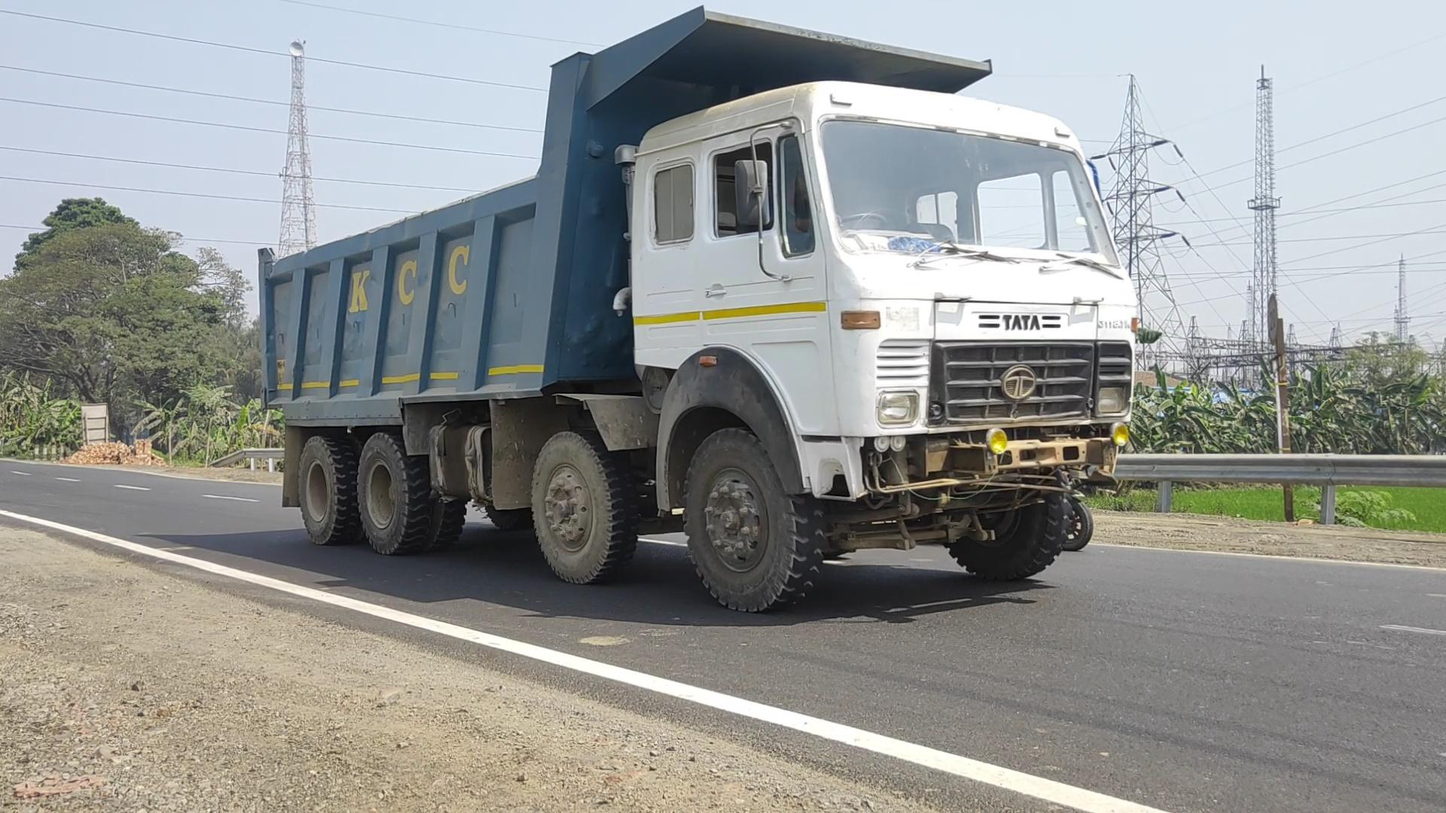truck: (258, 6, 1139, 615)
